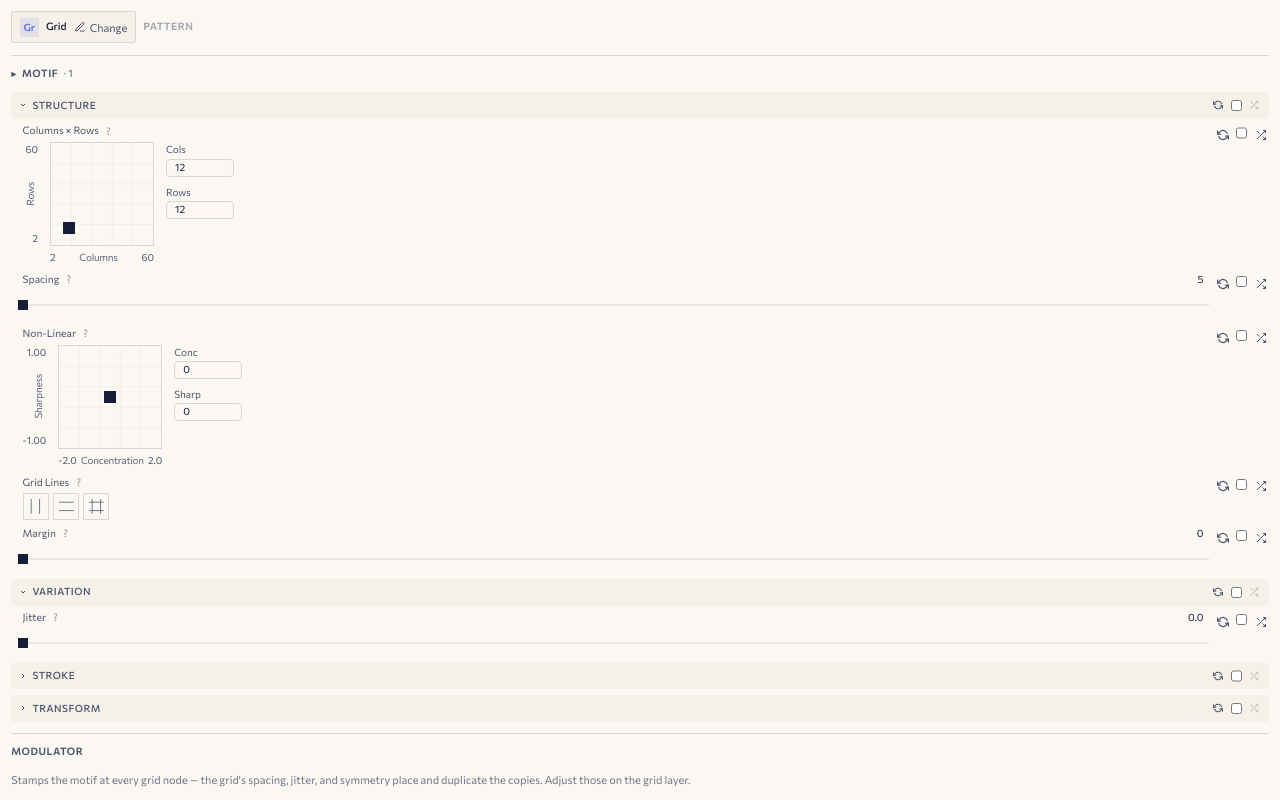
Test: MotifDevice › an empty library contributes no options to the picker
Click the button with test id "motif-toggle".
click(40, 73)  # box [11,67,1269,81]
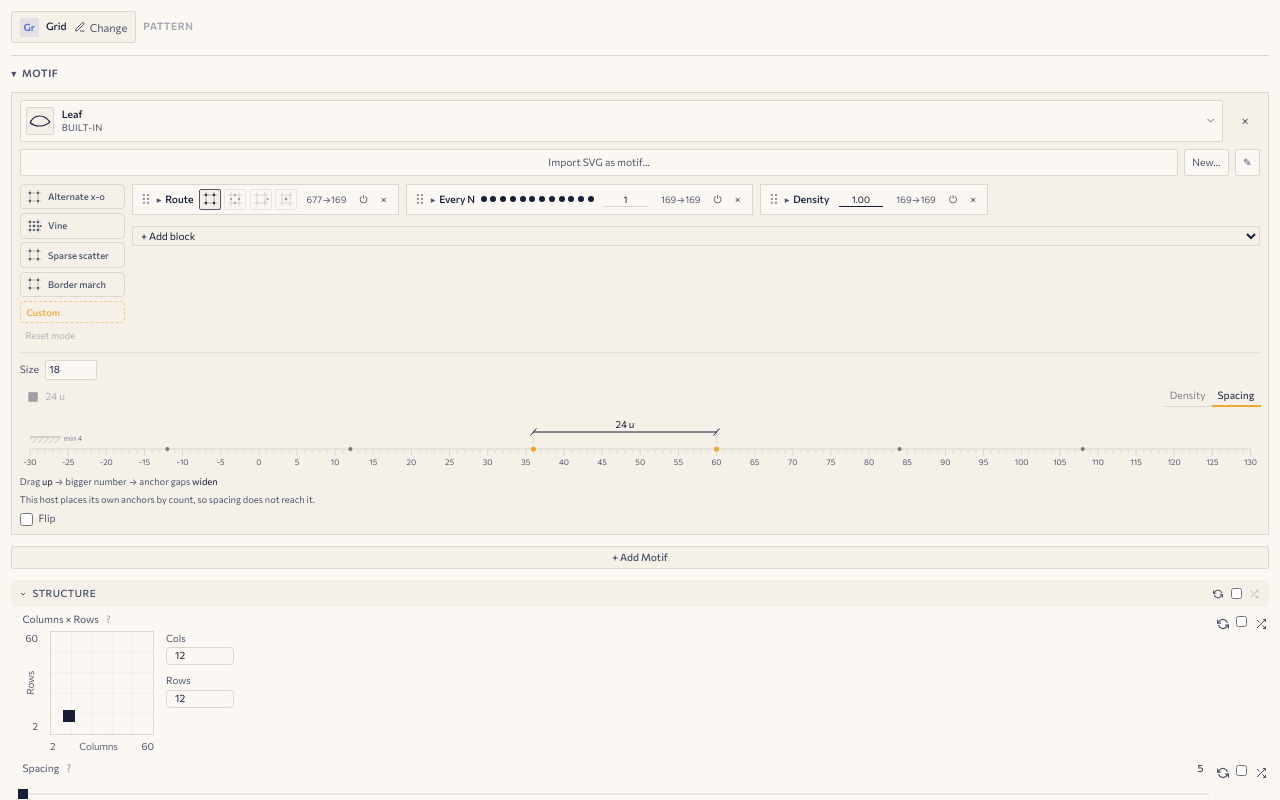
Click the button with test id "motif-glyph".
click(82, 127)  # box [20,100,1223,142]
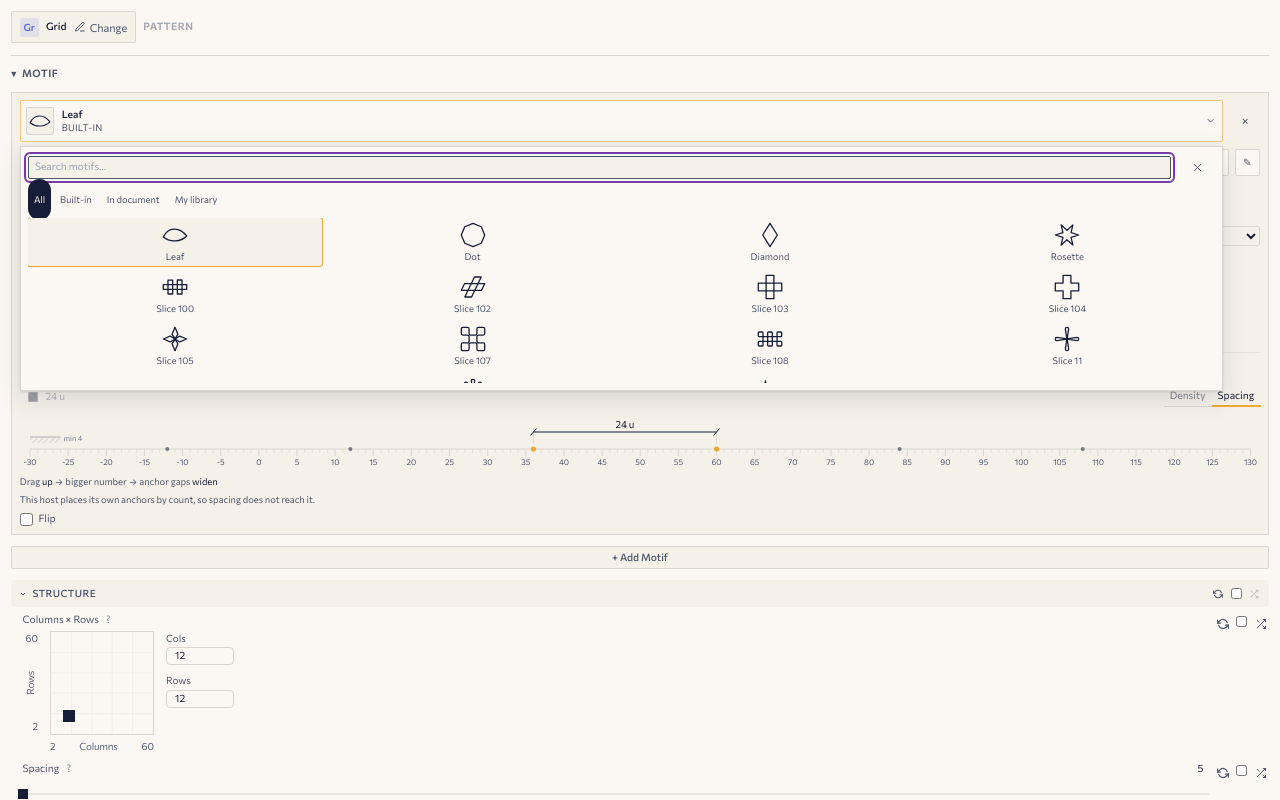
Click the button "My library".
click(196, 199)  # box [169,178,223,220]
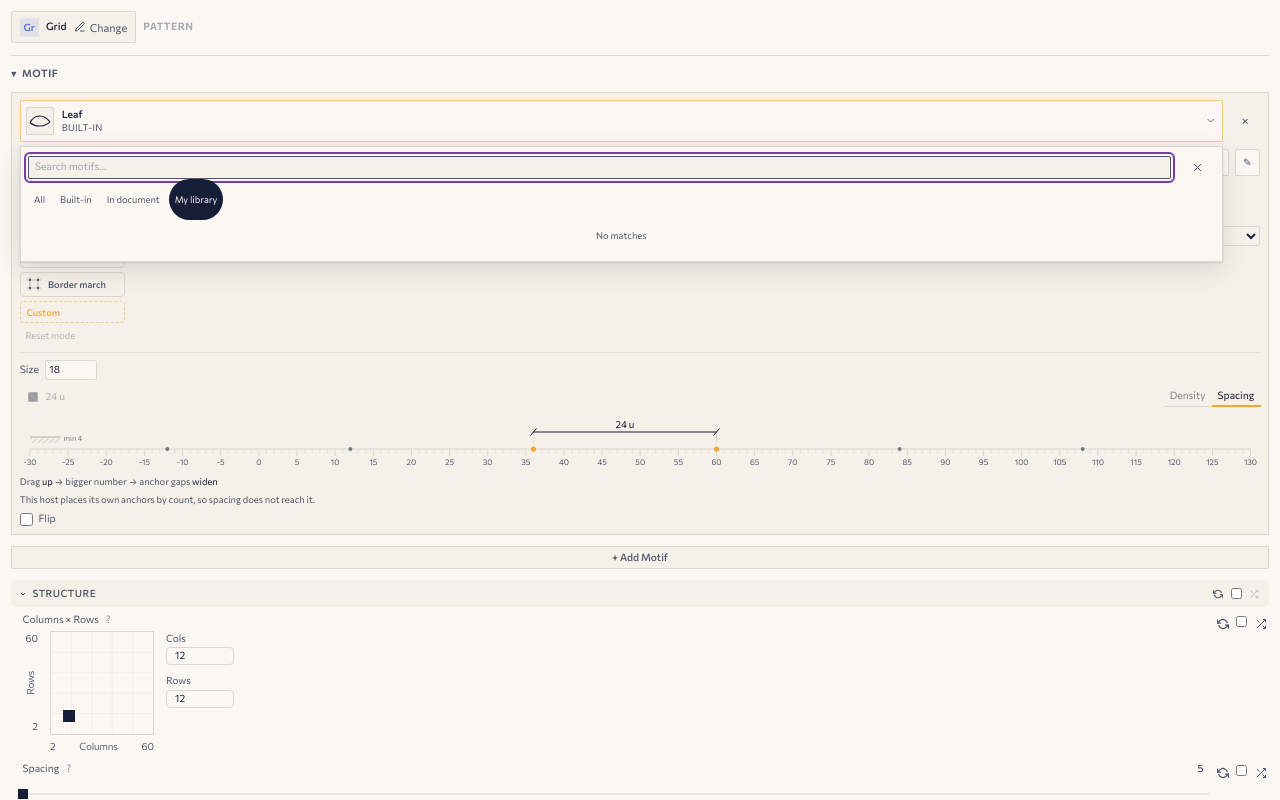
Expected: the text "No matches" is shown, [596,229,646,241]
